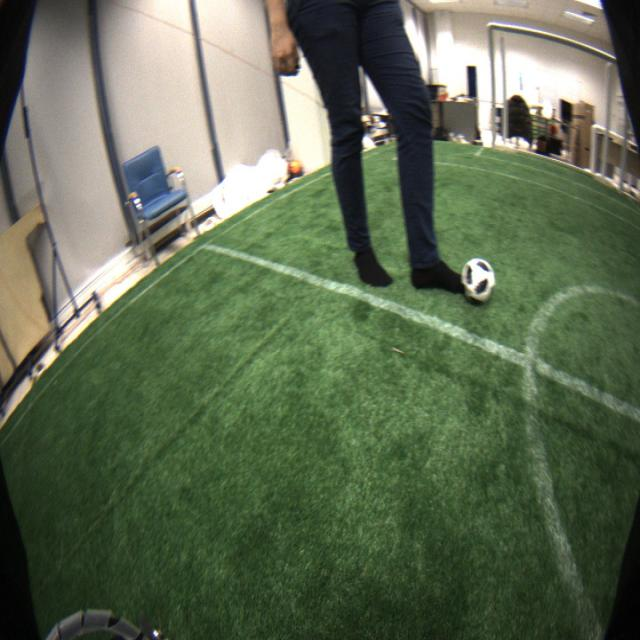ball: (464, 258, 494, 304)
goalpost: (616, 101, 630, 195), (488, 21, 494, 148)
